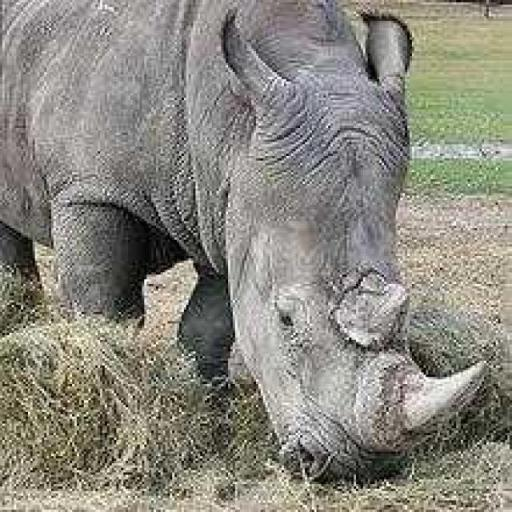Rhino: (0, 0, 489, 484)
